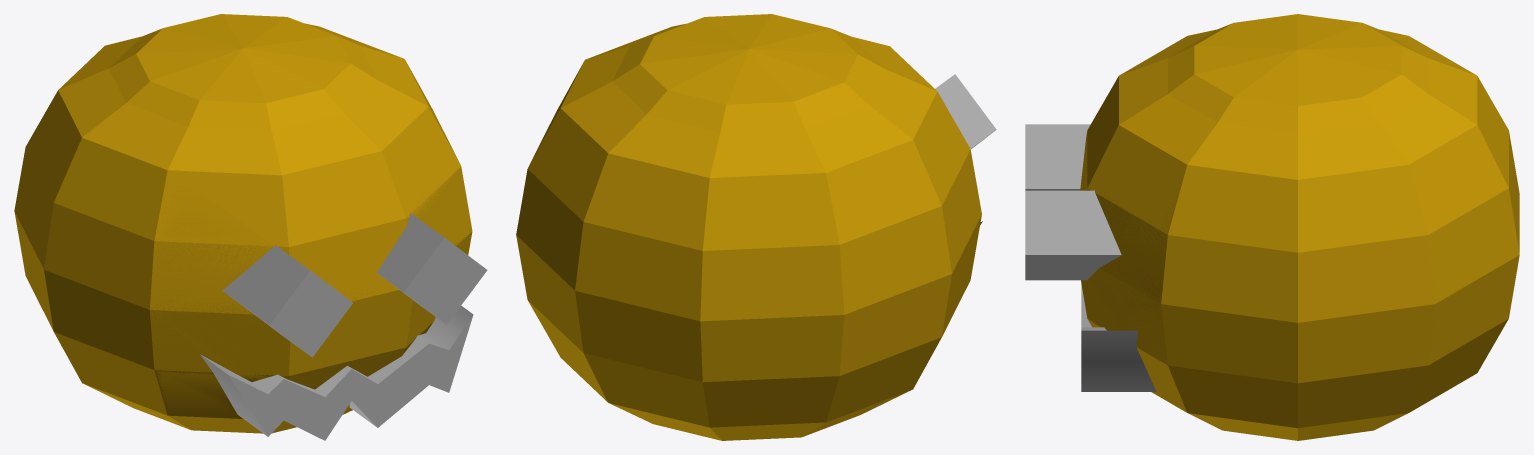
Rendered from pumpkin2.fbx.
3 views of the same model, side by side, from view 1: azimuth 30°, elevation 25°; view 2: azimuth 150°, elevation 25°; view 3: azimuth 270°, elevation 25° (orthographic).
Parts seen in each view (by area): view 1: pSphere2, polySurface1, pCube2, pCube1, pasted__pCube1; view 2: pSphere2, polySurface1, pCube1; view 3: pSphere2, polySurface1, pasted__pCube1, pCube2, pCube1.
Boxes of the visible parts, x1=… form: pSphere2: x1=14, y1=14, x2=472, y2=433; polySurface1: x1=14, y1=15, x2=469, y2=431; pCube2: x1=200, y1=305, x2=473, y2=440; pCube1: x1=222, y1=245, x2=352, y2=357; pasted__pCube1: x1=377, y1=213, x2=487, y2=324; pSphere2: x1=516, y1=14, x2=981, y2=440; polySurface1: x1=528, y1=57, x2=981, y2=427; pCube1: x1=935, y1=74, x2=996, y2=148; pSphere2: x1=1081, y1=14, x2=1519, y2=440; polySurface1: x1=1080, y1=29, x2=1508, y2=427; pasted__pCube1: x1=1025, y1=190, x2=1121, y2=280; pCube2: x1=1081, y1=284, x2=1156, y2=391; pCube1: x1=1025, y1=124, x2=1090, y2=190.
Size of the model in its own units: 3.55 by 3.05 by 3.77.
